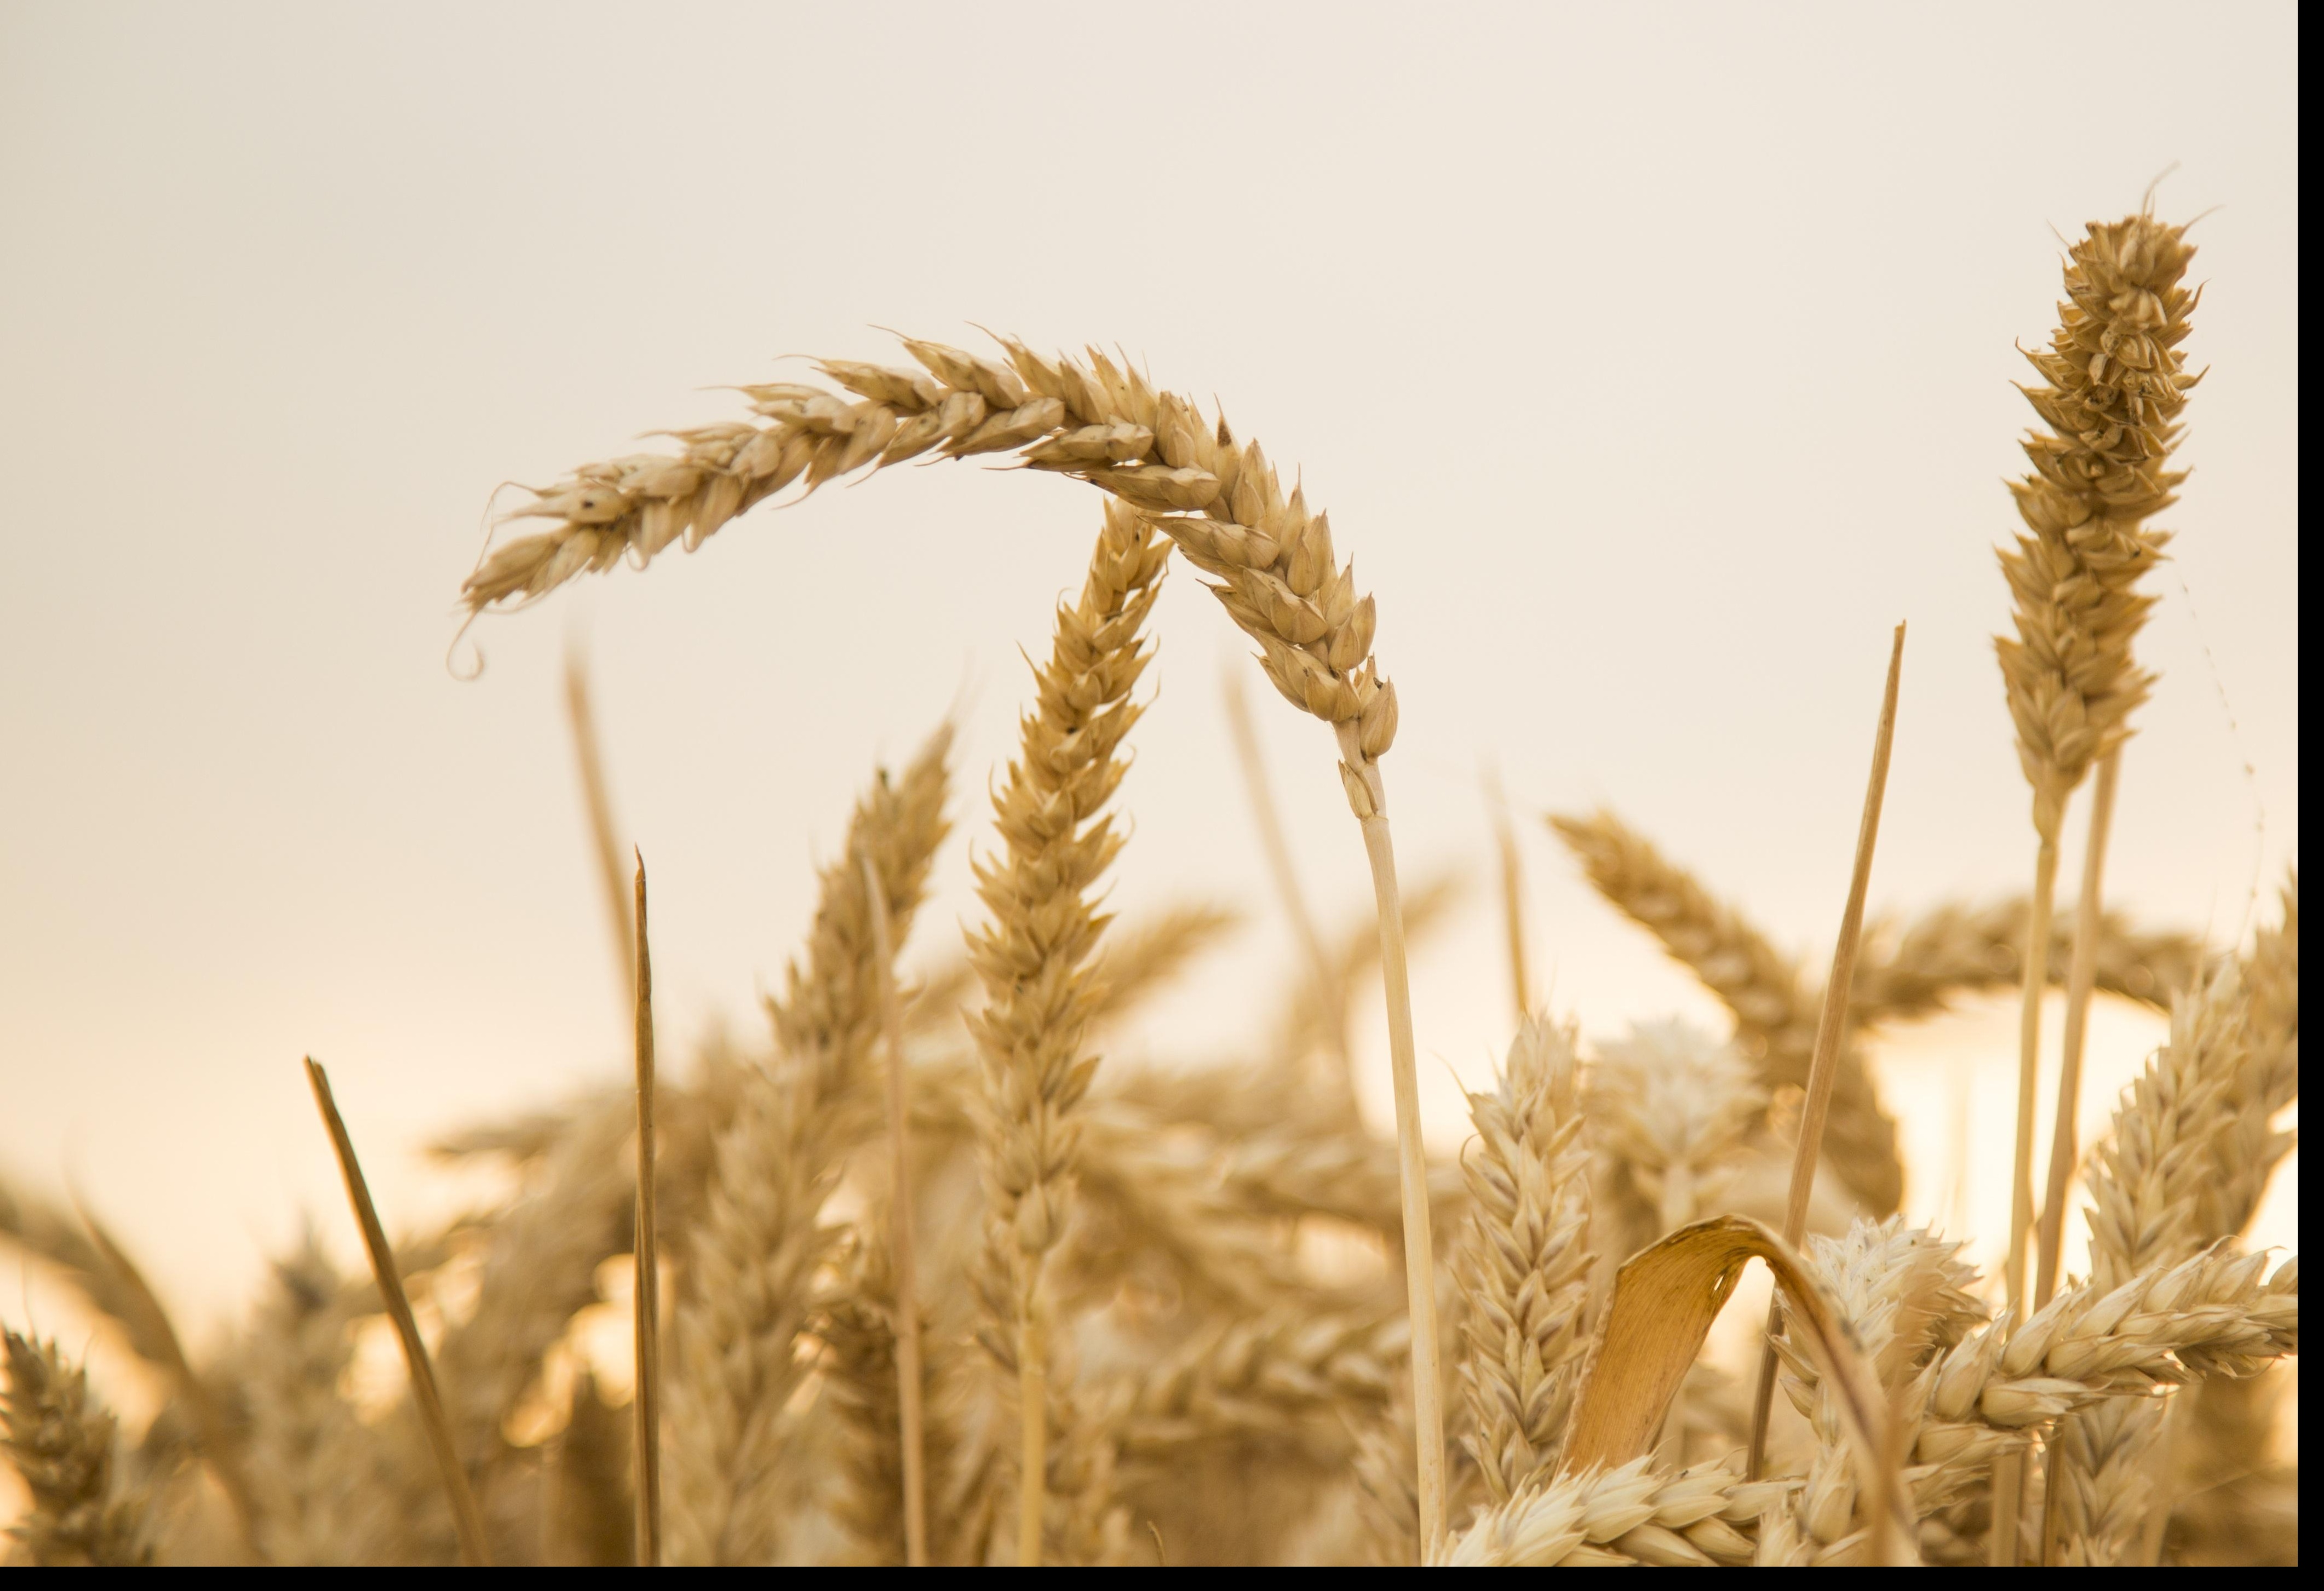wheat: (422, 318, 1397, 788), (959, 449, 1174, 1319), (2008, 143, 2200, 879)
